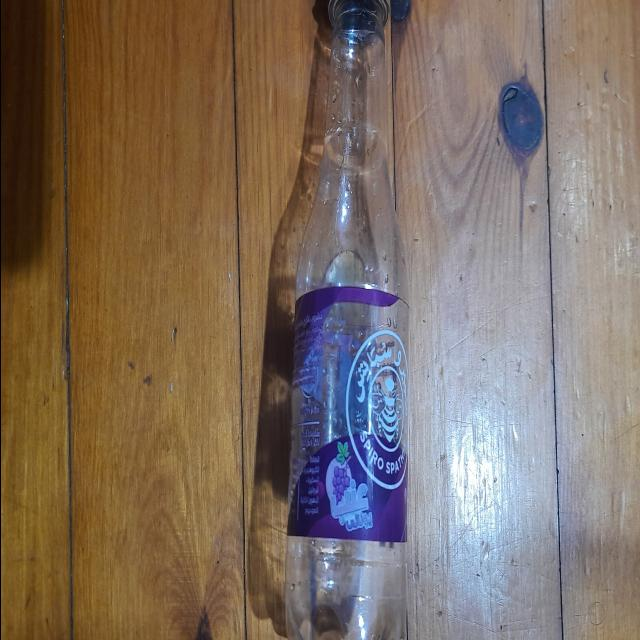plastic: (277, 0, 408, 640)
